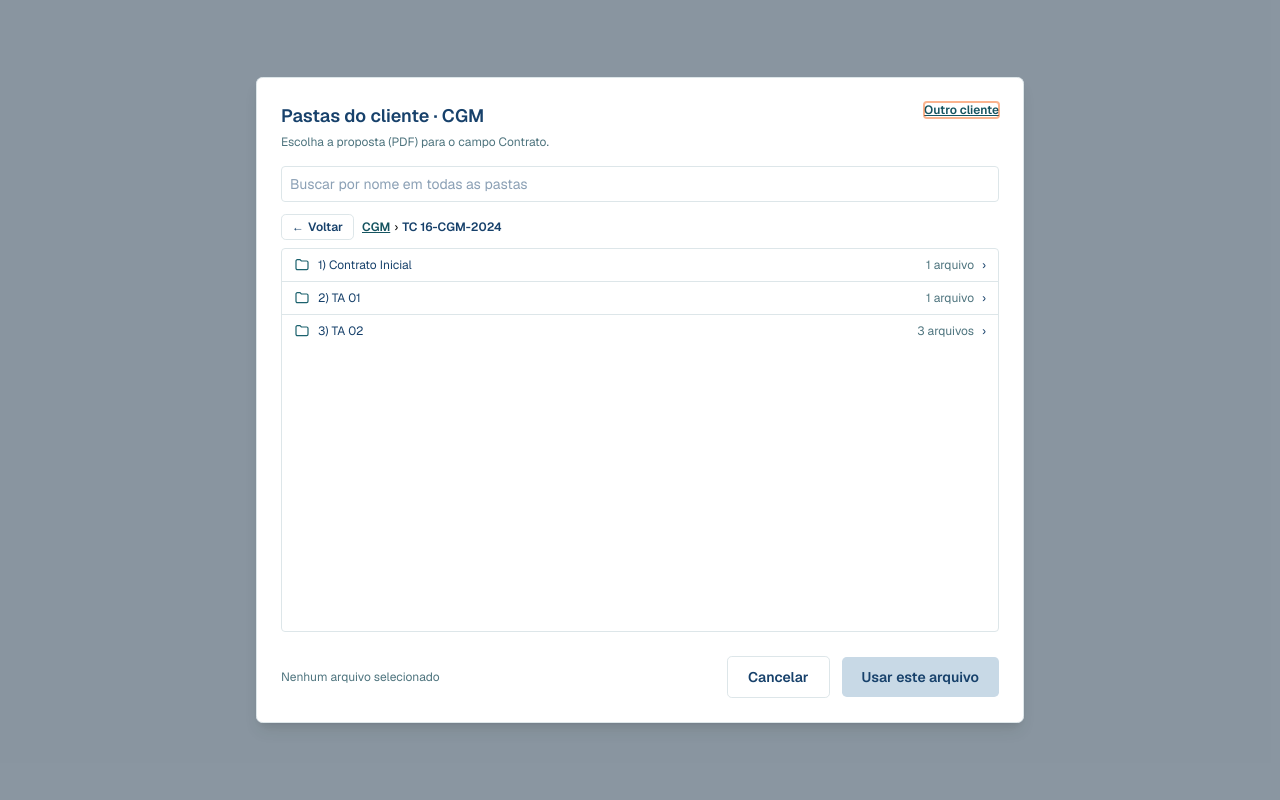
o caminho é clicável e volta à raiz do cliente
Expected: the button "3) TA 02 3 arquivos ›" is shown, [282,315,998,347]
Click the button "CGM". click: (376, 227)
box: [362,219,390,235]
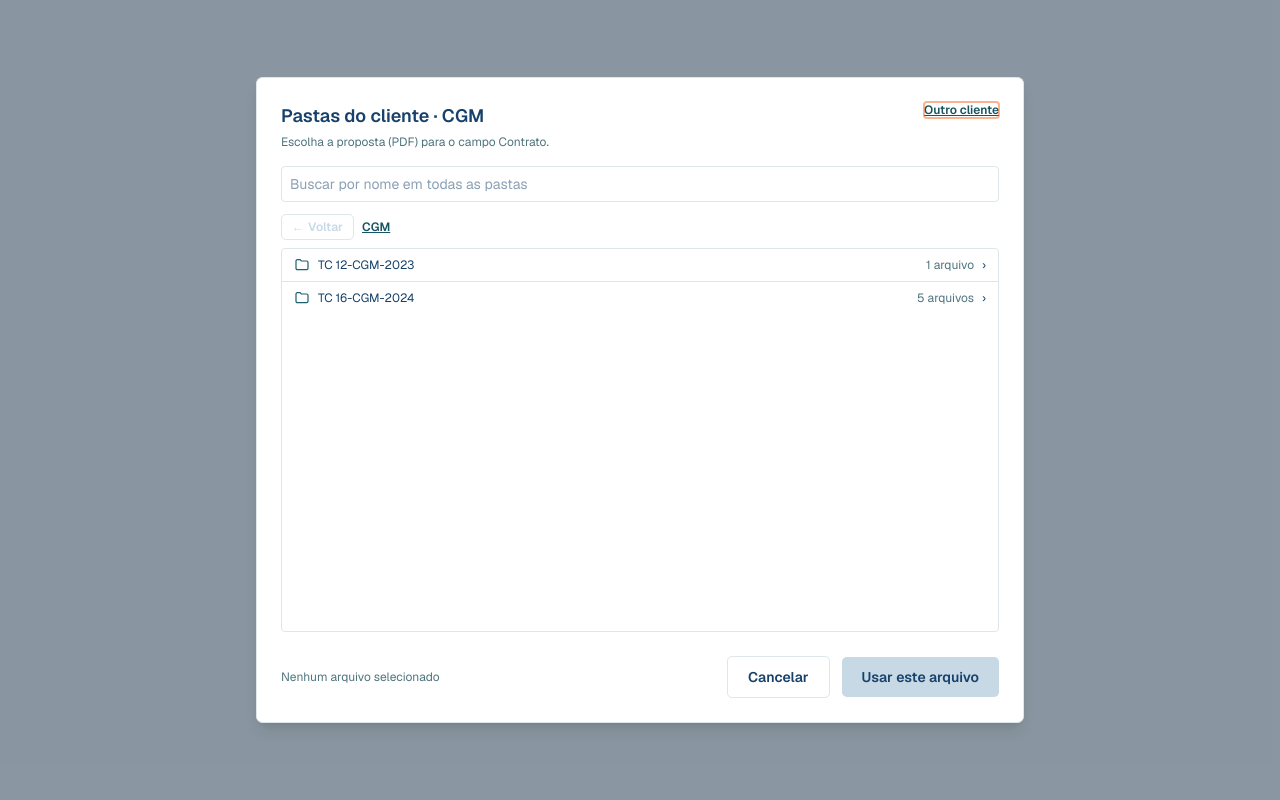
Expected: the button "TC 12-CGM-2023 1 arquivo ›" is shown, [282,249,998,281]
